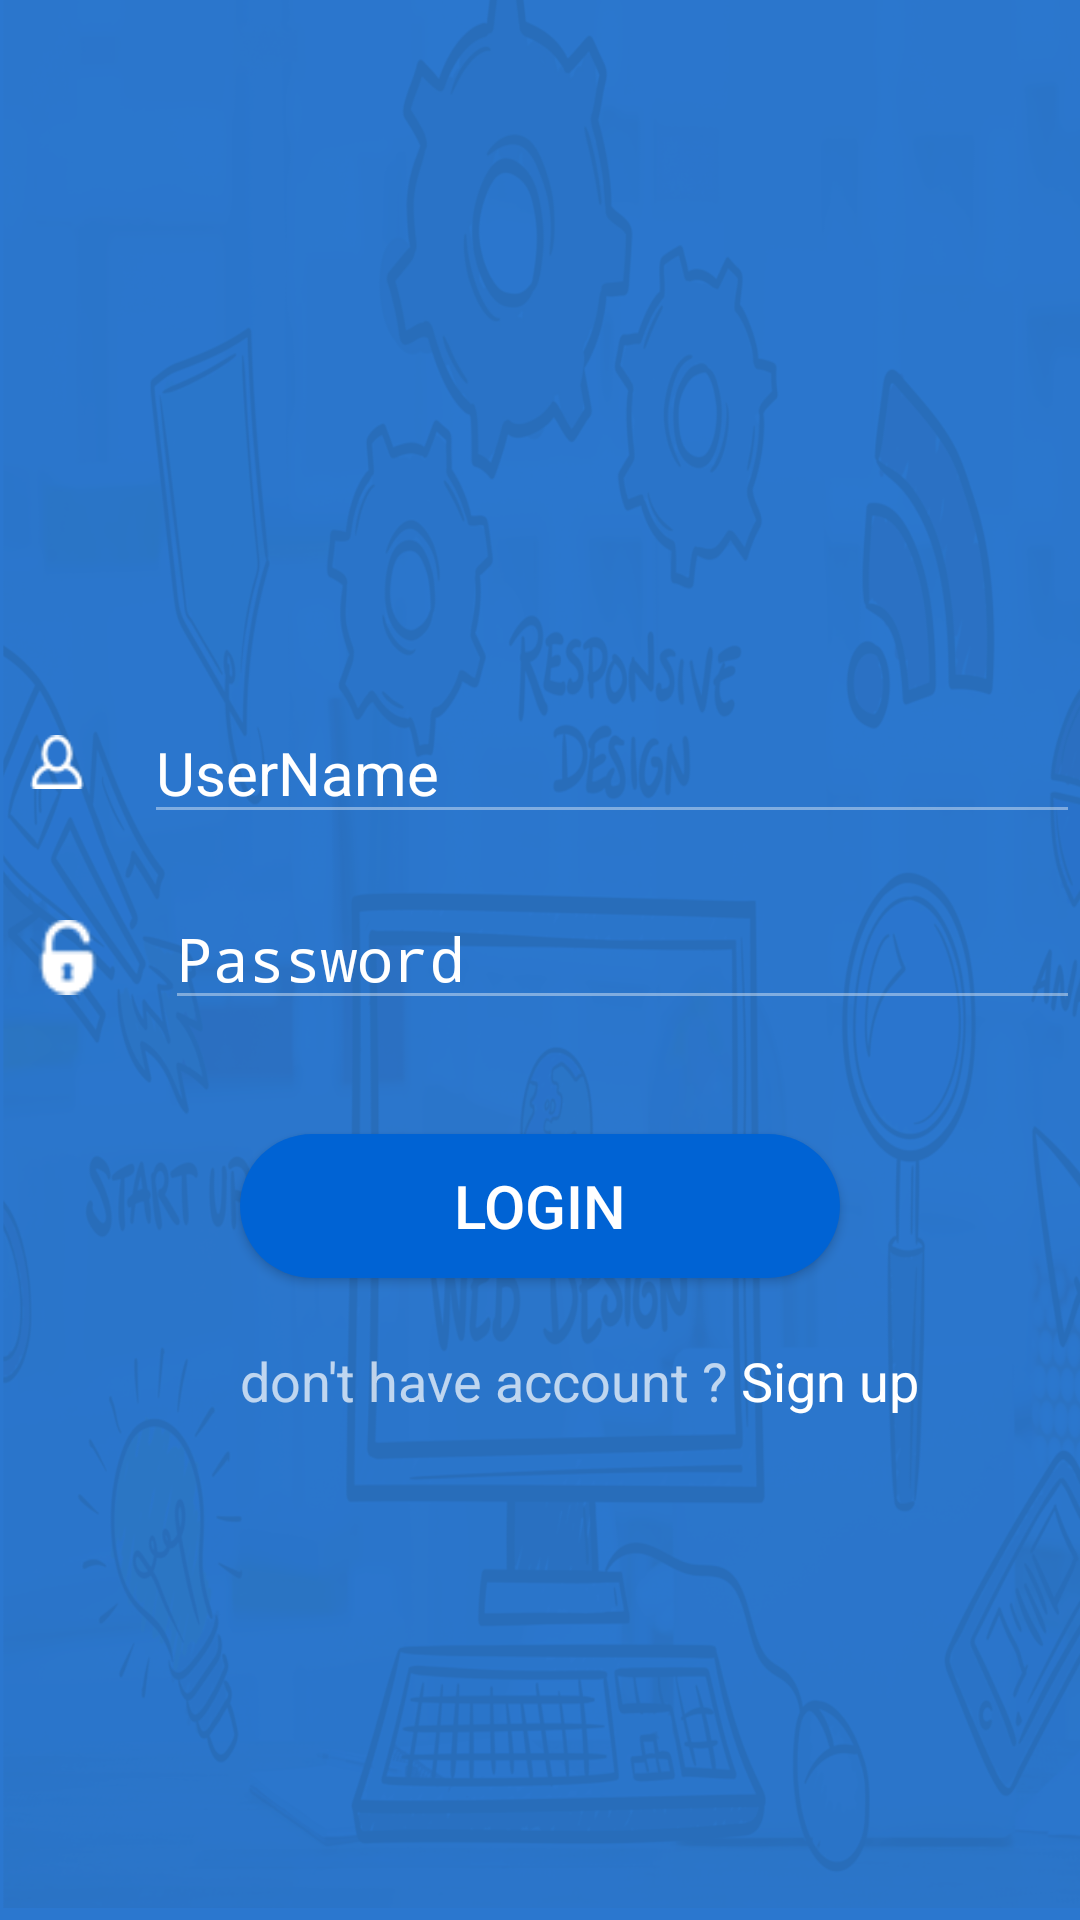

Locate icon controls on the screen. Image size 1080 × 1920, boxes as (x1, y1, x2, y2).
openlock: (39, 920, 96, 995)
